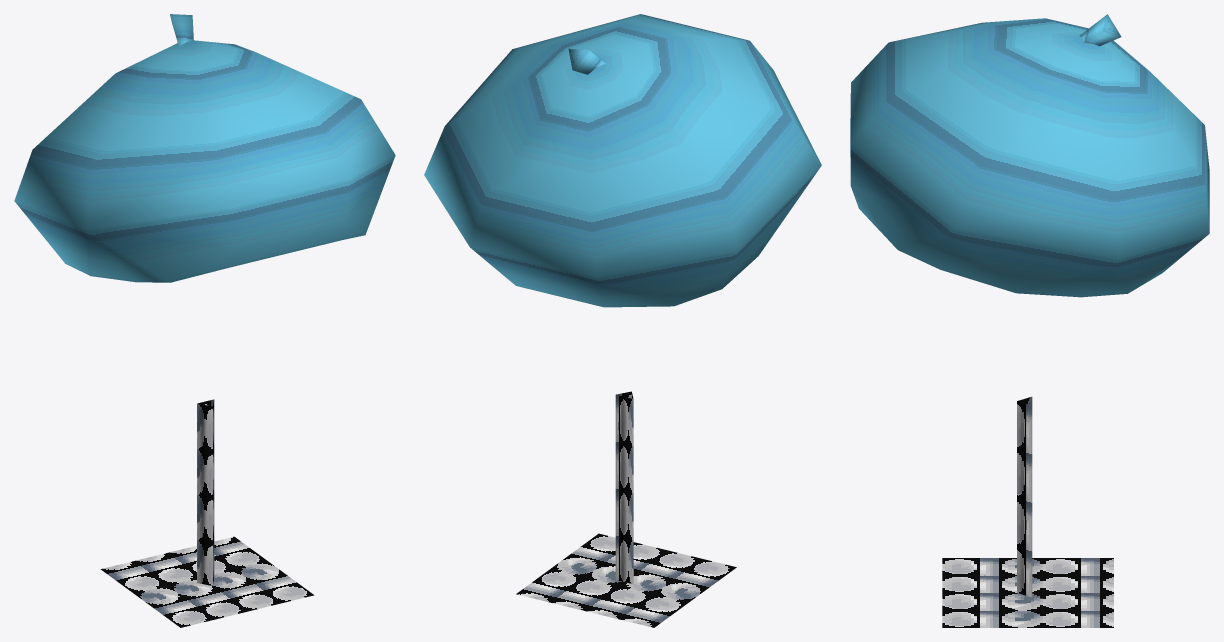
The model's file is 2951head111_c.gltf.
The picture shows the model from 3 angles, left to right: view 1: azimuth 30°, elevation 25°; view 2: azimuth 150°, elevation 25°; view 3: azimuth 270°, elevation 25°; orthographic projection. The views are drawn at different scales.
Visible parts, largest first — view 1: 2951head111_c; view 2: 2951head111_c; view 3: 2951head111_c.
Boxes of the visible parts, x1,y1,x2,y2 form: 2951head111_c: [14, 14, 395, 627]; 2951head111_c: [424, 14, 821, 627]; 2951head111_c: [850, 14, 1209, 627].
Size of the model in its own units: 1.07 by 1.79 by 1.
Materials: 2 (2 with a texture image).
